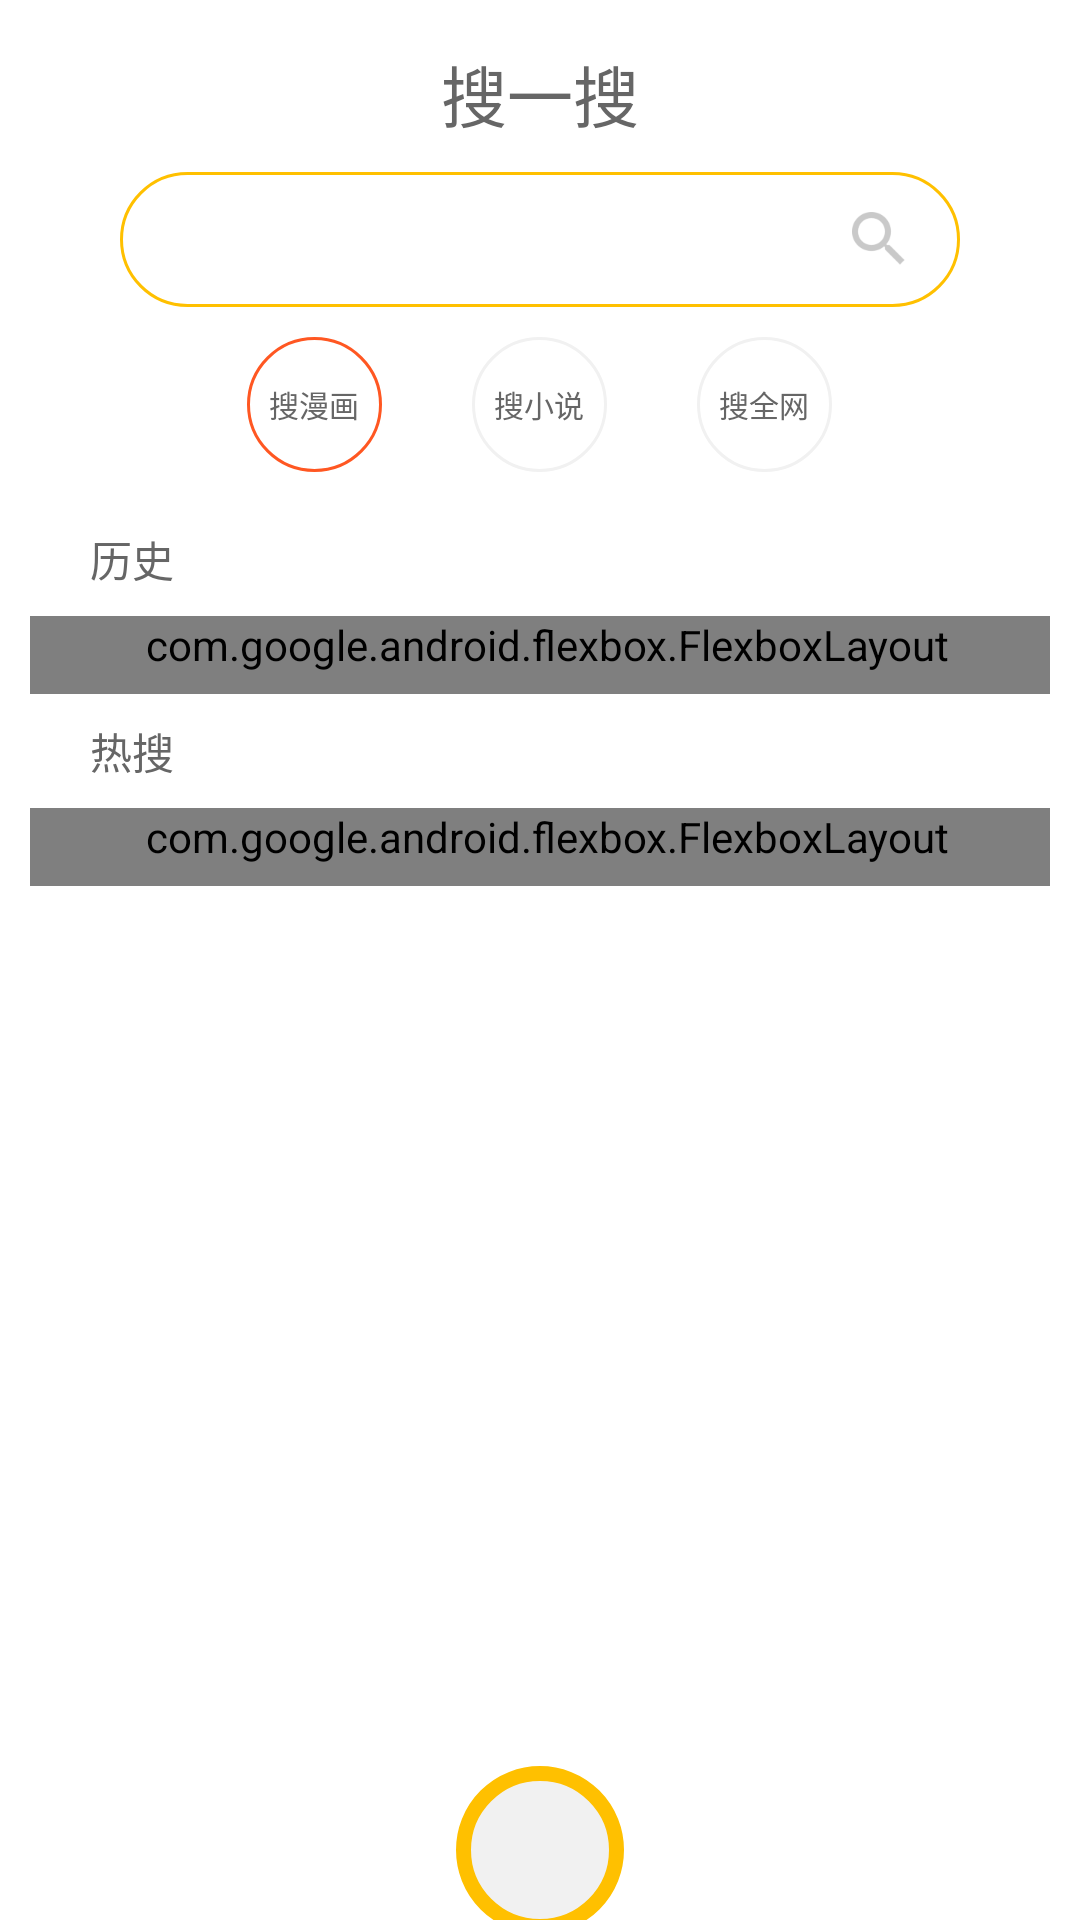

Icon bounding boxes for this 1080×1920 phone screenshot, format (x1, y1, x2, y2):
search: (852, 212, 904, 264)
